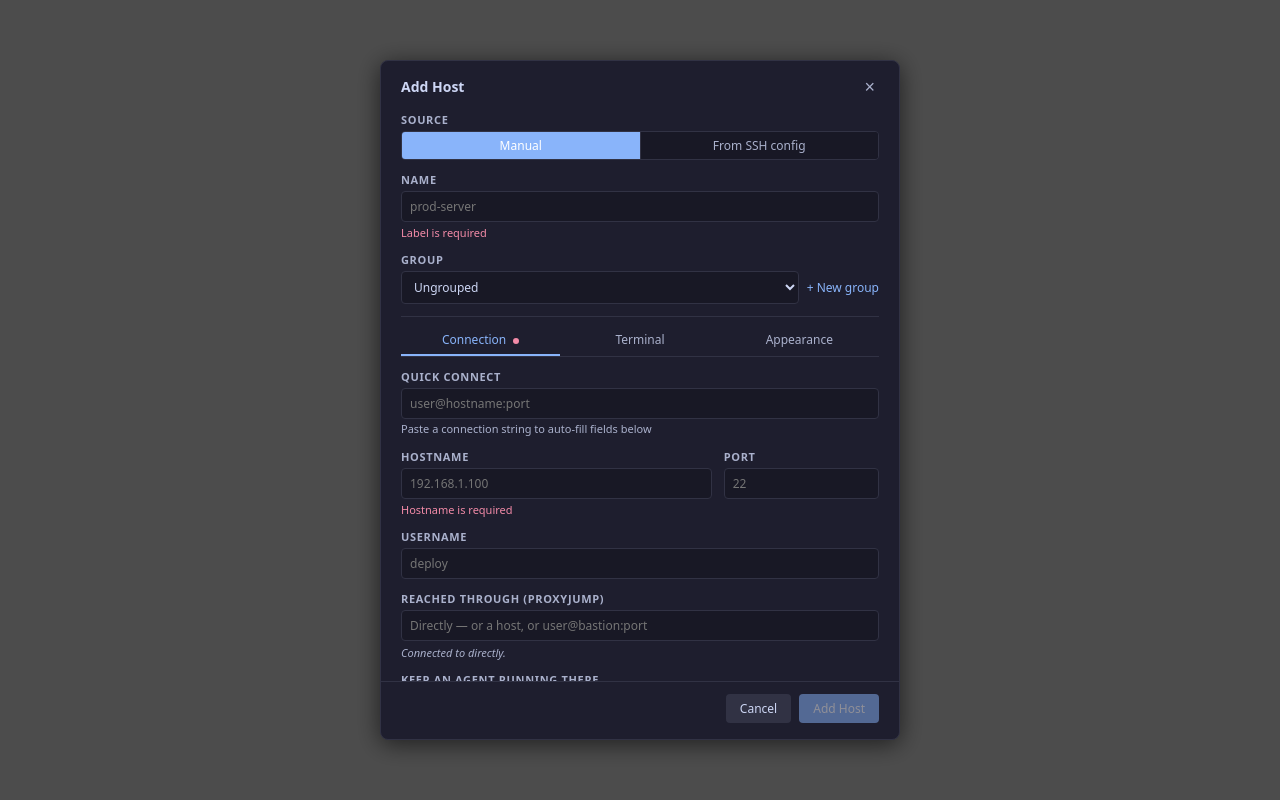
Test case: HostModal reading the hub's SSH config (#734, #757) › says so when the hub does not answer, with no unhandled rejection
The width and height of the screenshot is (1280, 800).
Click the button with class "source-tab" showing "From SSH config".
click(759, 146)  # box [640,132,878,159]
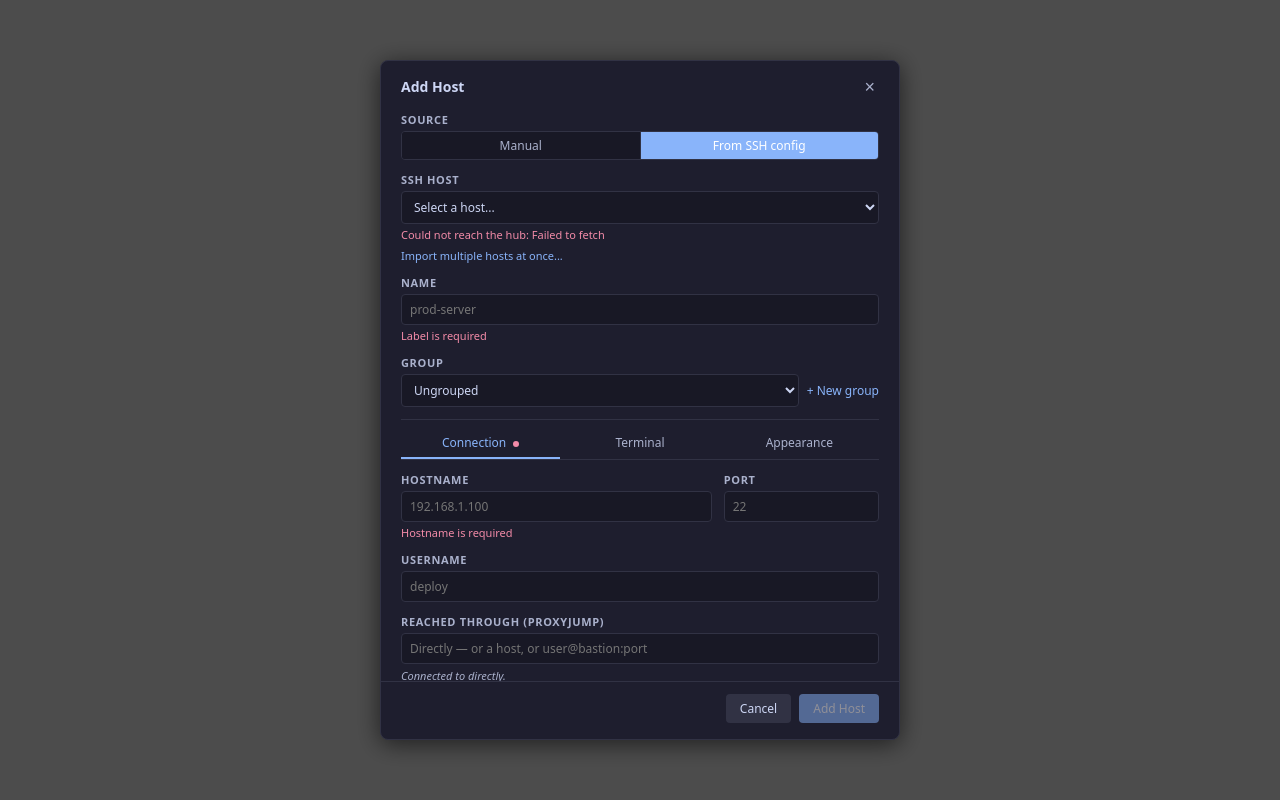
Expected: the message with class "ssh-config-error" reads "Could not reach the hub: Failed to fetch", [401,227,605,242]
